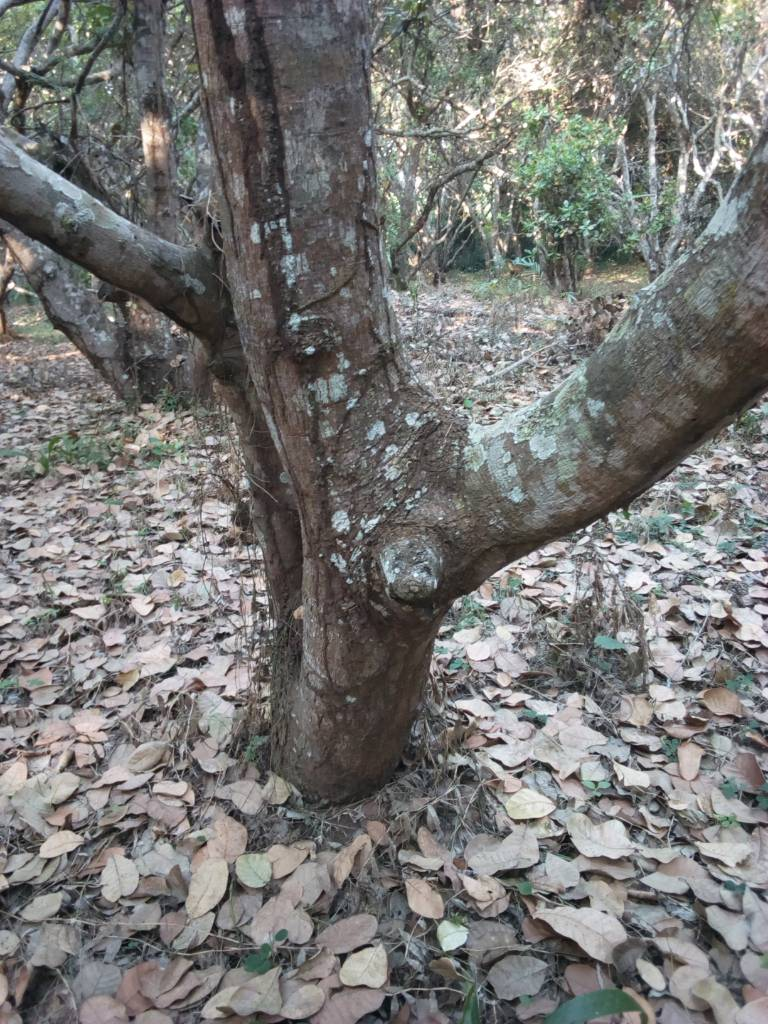Termites: (211, 8, 399, 424), (315, 607, 429, 786)
